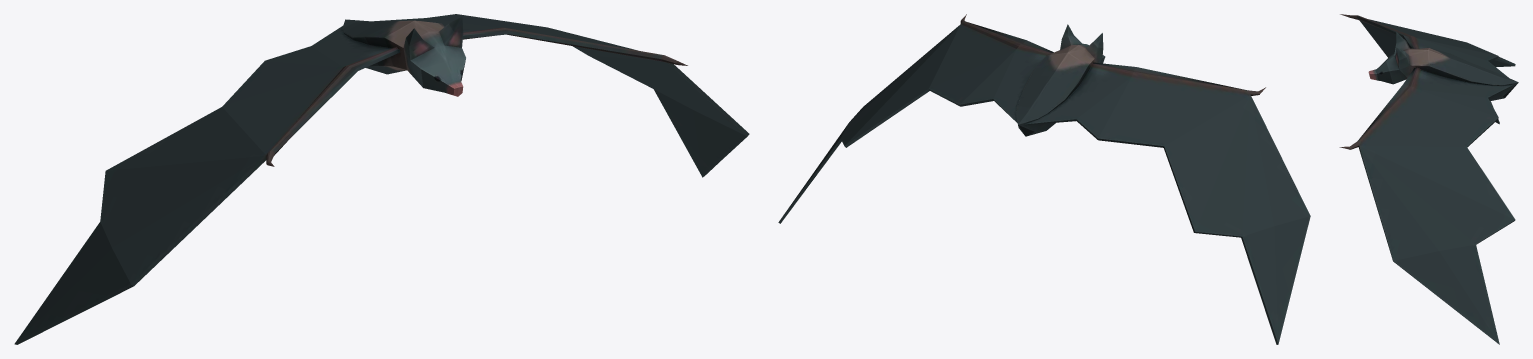
Rendered from 5_XBqyrOY7x.glb.
3 renders of one model, left to right at view 1: azimuth 30°, elevation 25°; view 2: azimuth 150°, elevation 25°; view 3: azimuth 270°, elevation 25°, orthographic. The views are drawn at different scales.
Visible parts, largest first — view 1: Bat_mesh; view 2: Bat_mesh; view 3: Bat_mesh.
Boxes of the visible parts, bbox=[...] form: Bat_mesh: bbox=[14, 14, 749, 344]; Bat_mesh: bbox=[778, 14, 1310, 344]; Bat_mesh: bbox=[1339, 14, 1518, 344].
Size of the model in its own units: 2.44 by 1 by 0.8343.
Materials: 1 (1 with a texture image).
